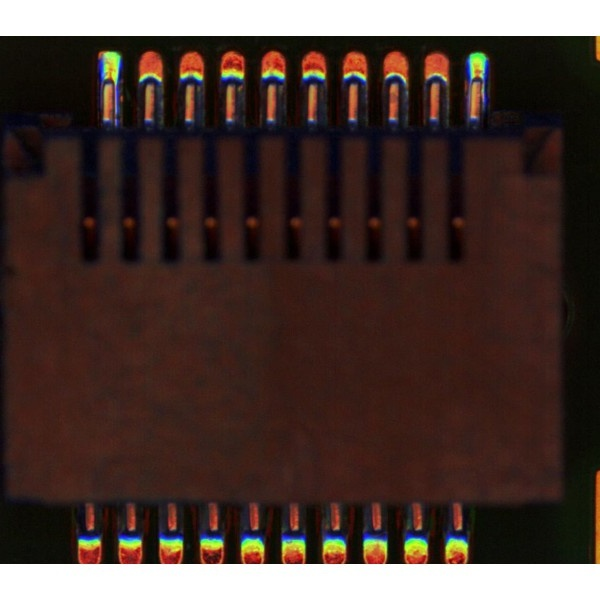Bad_qiaojiao: (113, 86, 121, 127), (481, 81, 486, 118)
